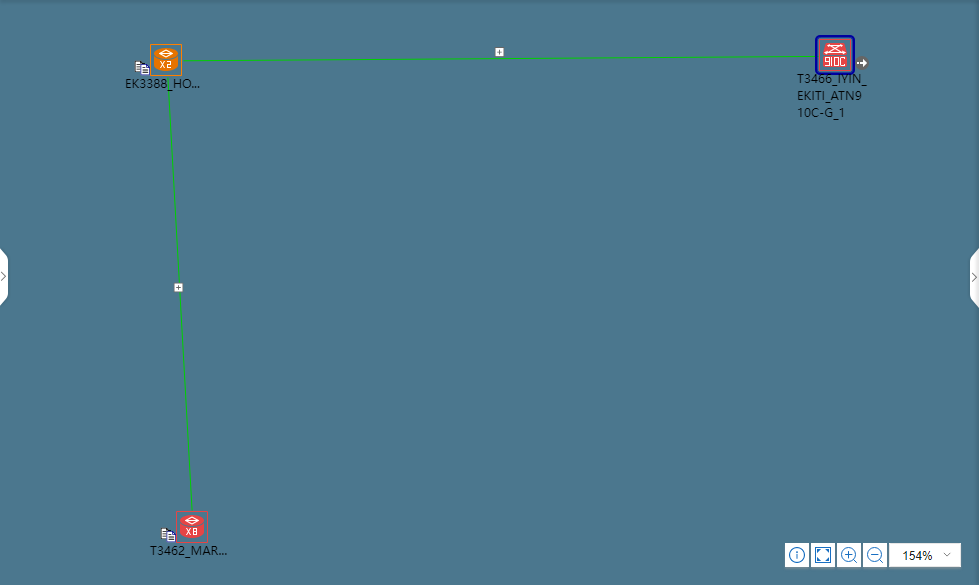ATN_Red: (823, 45, 852, 74)
Link_Green: (162, 75, 197, 514), (193, 51, 815, 68)
Router_Red: (181, 516, 210, 545)
